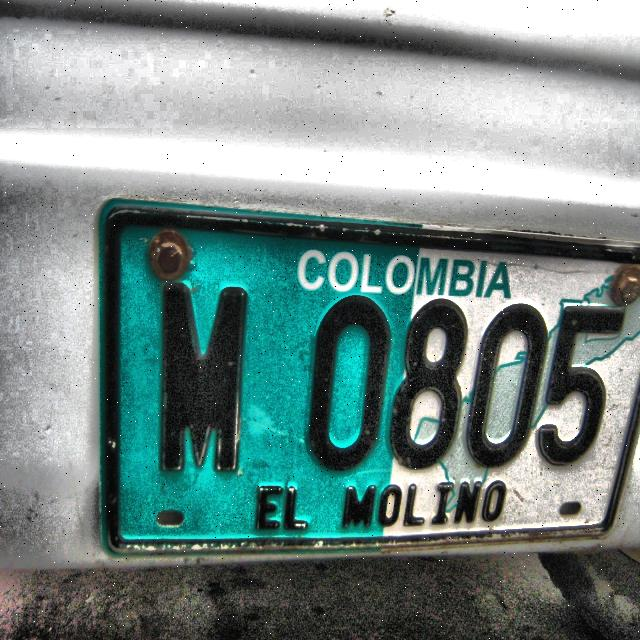plate: (98, 198, 640, 557)
